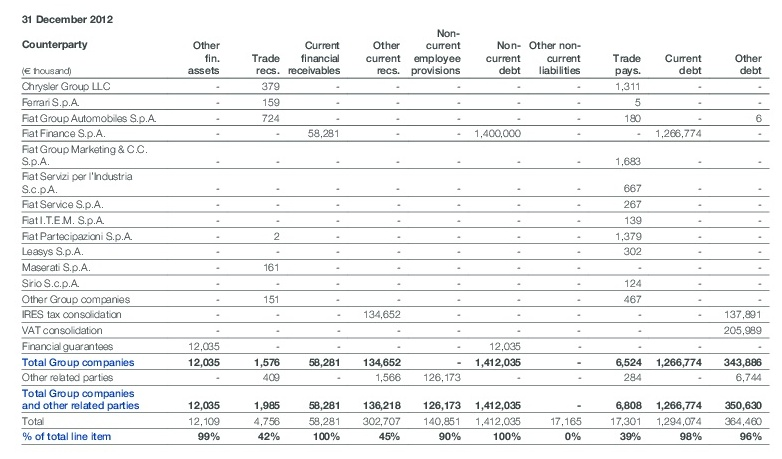table: (0, 0, 782, 459)
